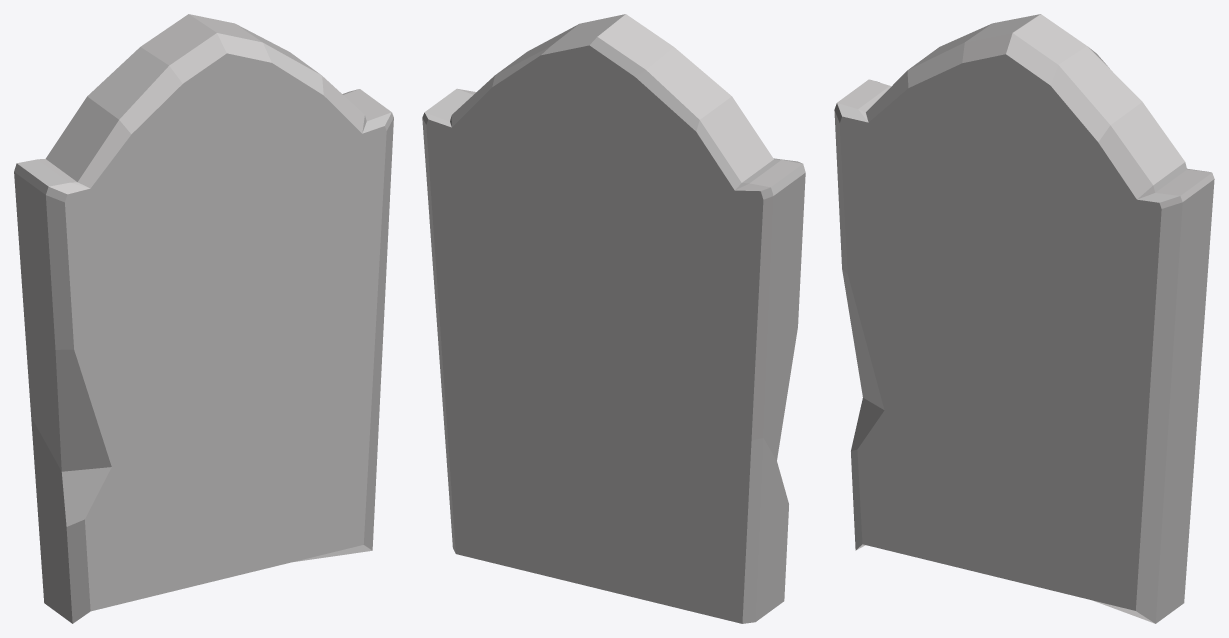
Rendered from WF_LP_HT_Props_Gravestone.008.fbx.
The picture shows the model from 3 angles, left to right: view 1: azimuth 30°, elevation 25°; view 2: azimuth 150°, elevation 25°; view 3: azimuth 330°, elevation 25°; orthographic projection.
Parts seen in each view (by area): view 1: WF_LP_HT_Props_Gravestone.008; view 2: WF_LP_HT_Props_Gravestone.008; view 3: WF_LP_HT_Props_Gravestone.008.
Part boxes in pixels (<box>): WF_LP_HT_Props_Gravestone.008: <box>14,14,393,623</box>; WF_LP_HT_Props_Gravestone.008: <box>422,14,805,623</box>; WF_LP_HT_Props_Gravestone.008: <box>834,14,1214,623</box>.
Bounding box in the file's own units: 0.702 × 1.06 × 0.151.
